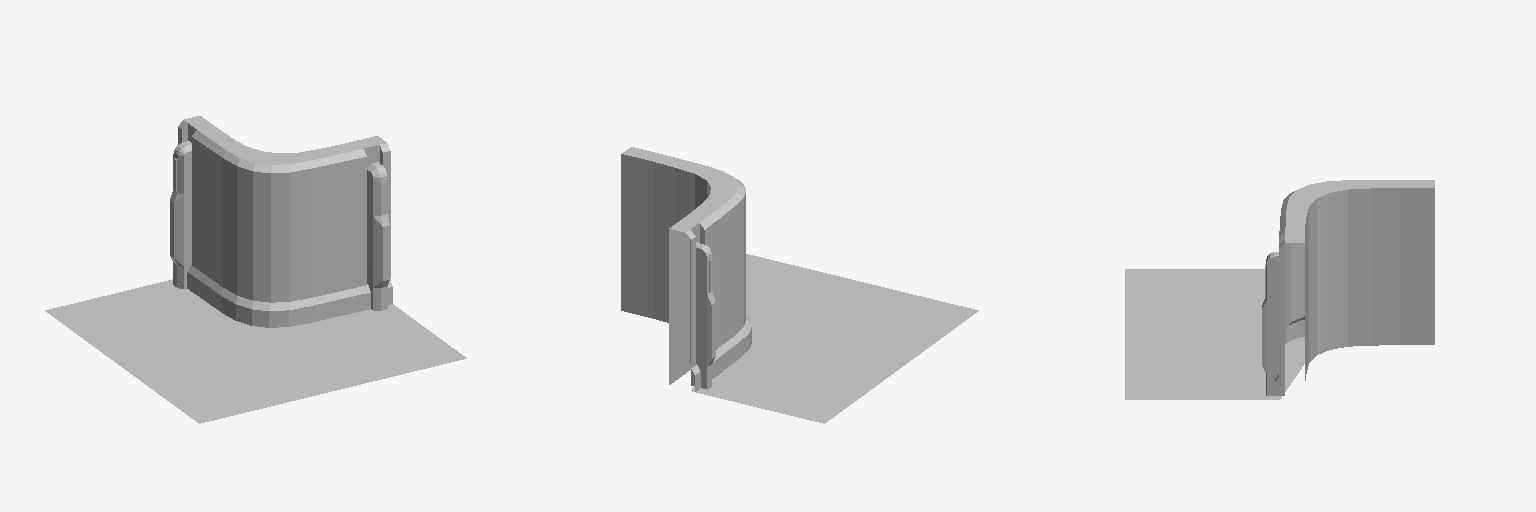
File: wallInner_Corner.obj
The picture shows the model from 3 angles: view 1: azimuth 30°, elevation 25°; view 2: azimuth 150°, elevation 25°; view 3: azimuth 270°, elevation 25°; orthographic projection.
Visible parts, largest first — view 1: floor_inner_corner; view 2: floor_inner_corner; view 3: floor_inner_corner.
Part boxes in pixels (x1,y1,x2,y2): floor_inner_corner: (45, 116, 466, 423); floor_inner_corner: (621, 147, 978, 423); floor_inner_corner: (1125, 180, 1434, 399).
Size of the model in its own units: 5 by 2.8 by 5.